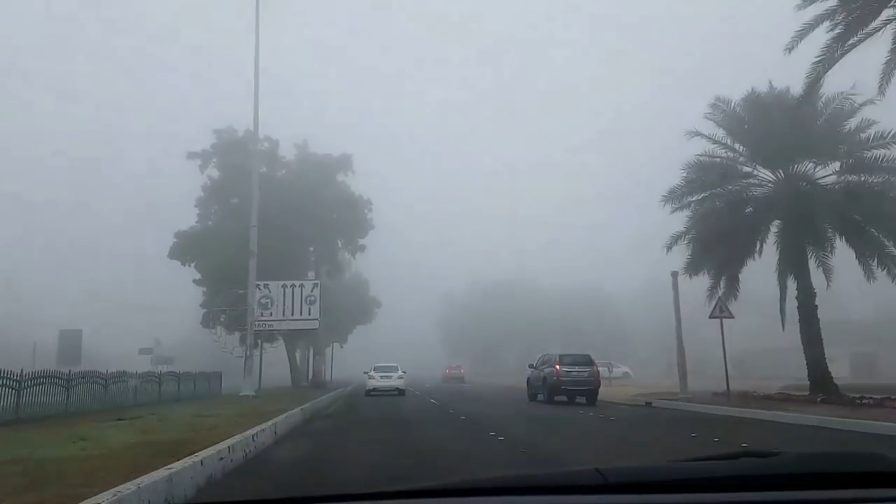car: (525, 352, 601, 407), (363, 363, 408, 397), (578, 359, 633, 381), (440, 362, 465, 383)
